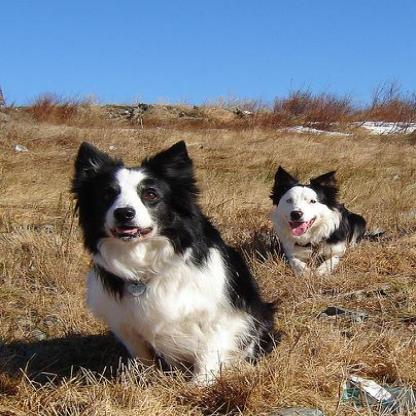Border_collie: (67, 137, 274, 382), (265, 163, 387, 279)
